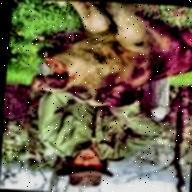boar: (29, 16, 192, 118)
